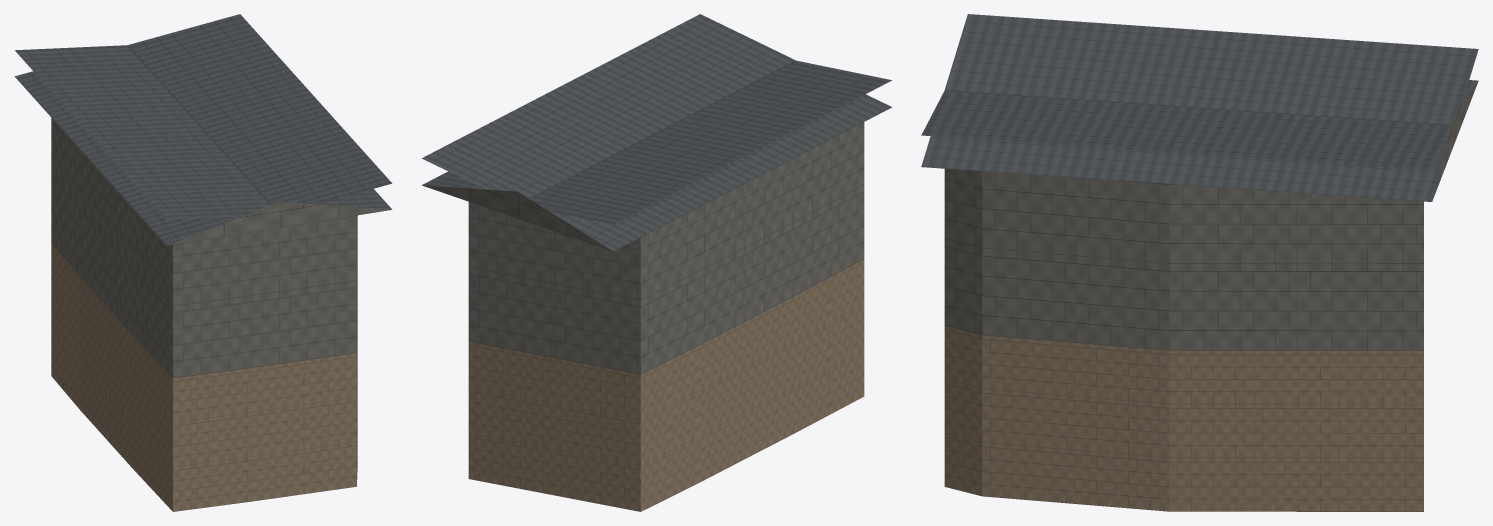
The model's file is bld_c32_-23_540.gltf.
3 renders of one model, left to right at view 1: azimuth 30°, elevation 25°; view 2: azimuth 150°, elevation 25°; view 3: azimuth 270°, elevation 25°, orthographic. The views are drawn at different scales.
Parts seen in each view (by area): view 1: bld_c32_-23_540; view 2: bld_c32_-23_540; view 3: bld_c32_-23_540.
Part boxes in pixels (box(x1,y1,x2,y2)): bld_c32_-23_540: box(14, 14, 392, 511); bld_c32_-23_540: box(422, 14, 891, 511); bld_c32_-23_540: box(921, 14, 1478, 511).
Size of the model in its own units: 10.62 by 11.6 by 15.99.
4 materials, 4 textured.
